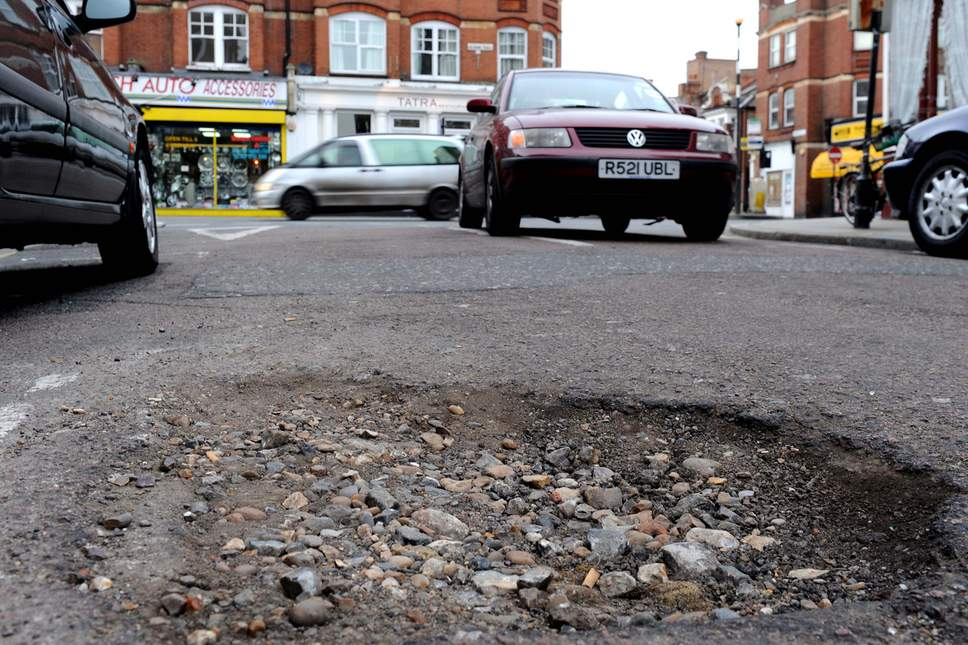pothole: (63, 350, 930, 643)
